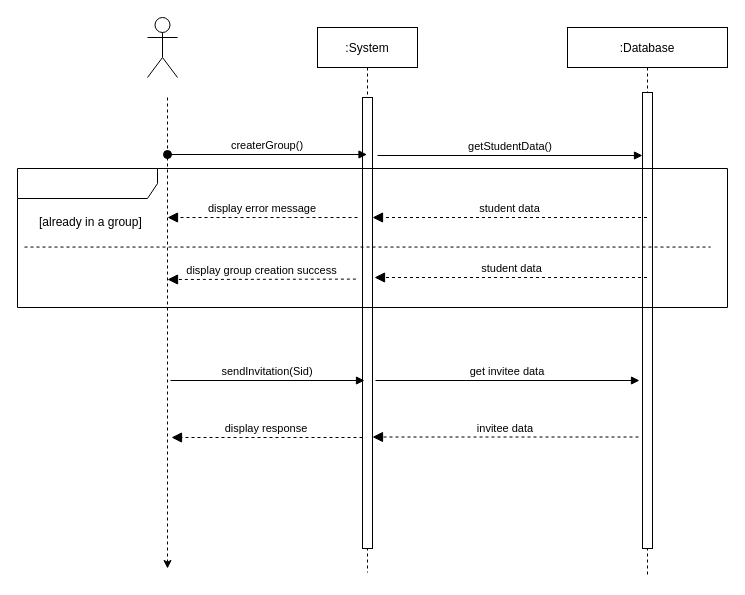
The diagram is 745 pixels wide and 595 high, and some of its shapes have lost their labels. Here are the shapes that lost their labels. From the top down, the box of each, then its label:
(146, 16, 178, 78): Student
(16, 168, 728, 308): Alternative
